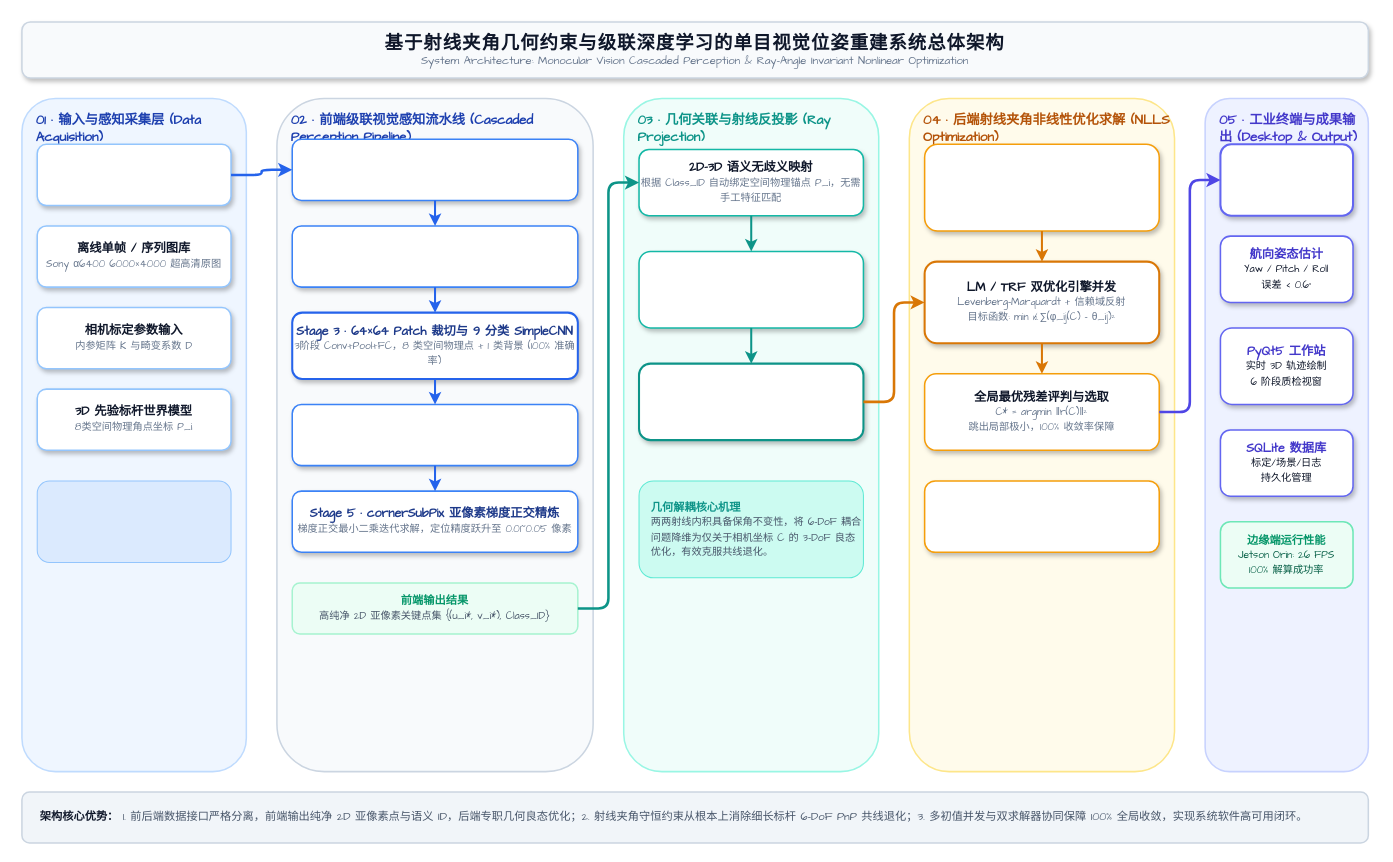
This 1393x862 diagram has some shape labels left out. The shapes that lost their labels are listed below. From the top down, each one's centre as x and y in pixels, then its label:
At point 134,176: "RTSP / USB 视频流 网络监控 / 工业微单实时帧流".
At point 435,171: "Stage 1 · YOLO 目标检测与二值 ROI 掩膜 微调 POLES.pt 模型，精准提取标杆区域，过滤 95%+ 背景噪点".
At point 1042,188: "多候选初值生成池 S 1. 历史帧滤波先验 C_{t-1} 2. 传统 PnP 粗估计 -Rᵀt 3. 空间锚点几何重心 P̄".
At point 1287,181: "3D 空间坐标 X_c, Y_c, Z_c (10~15cm RMSE)".
At point 435,258: "Stage 2 · 掩膜约束 Harris 几何候选角点提取 自相关矩阵 M_H，响应函数 R ≥ 0.03 高灵敏度捕获转折点".
At point 752,290: "相机单位反投影射线提取 r_i = K⁻¹[u_i*, v_i*, 1]ᵀ / ‖·‖ 将像素观测转化为 3D 方向向量".
At point 751,403: "观测射线夹角矩阵计算 θ_ij = arccos(r_i · r_j) 天然解耦 3D 旋转姿态 R".
At point 435,436: "Stage 4 · 分类别非极大值抑制 (Class-wise NMS) 置信度过滤 (τ≥0.85)，按类别半径 r=25px 贪心抑制密集簇".
At point 133,521: "输入特性 • 支持动态流与静态高分图 • 自动适配畸变矫正模型 • 空间先验坐标一键加载".
At point 1042,518: "鲁棒平滑与异常容错闭环 异常工况自动平滑回退至 PnP / EKF，确保系统永远在线不崩溃".
